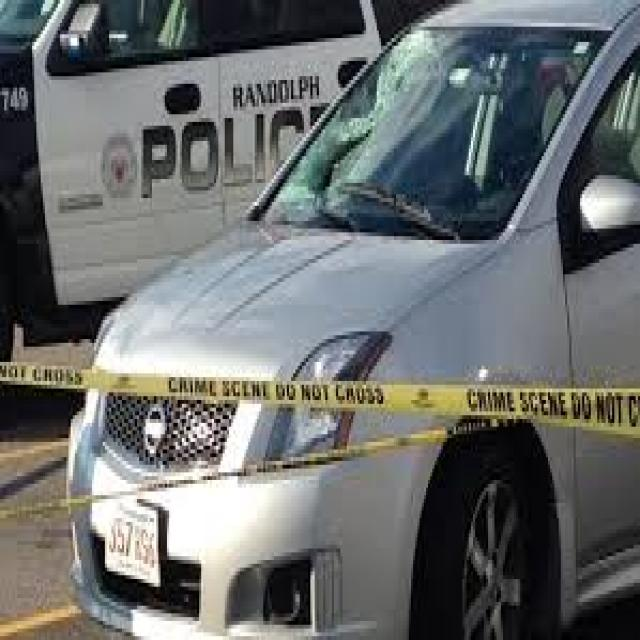minor: (268, 28, 519, 282)
